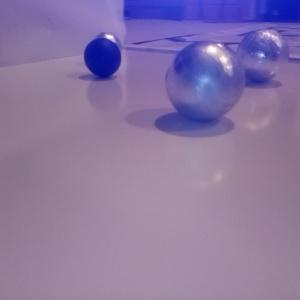alive_ball: (164, 39, 245, 121), (235, 29, 289, 83), (94, 31, 122, 61)
dead_ball: (83, 37, 120, 77)
